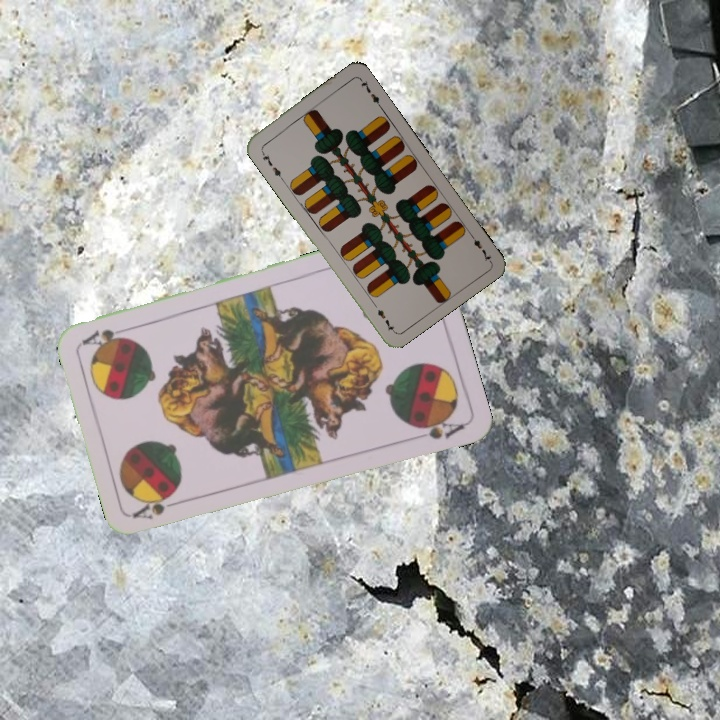E7: (465, 228, 494, 264), (257, 147, 285, 182)
SA: (129, 494, 187, 522)
